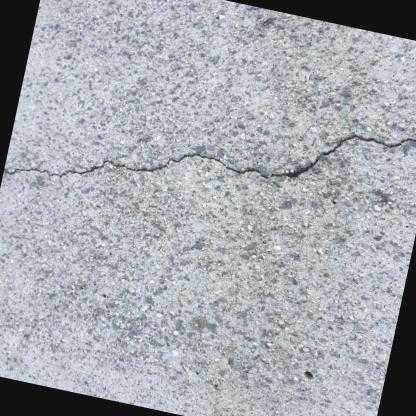crack: (3, 130, 416, 179)
